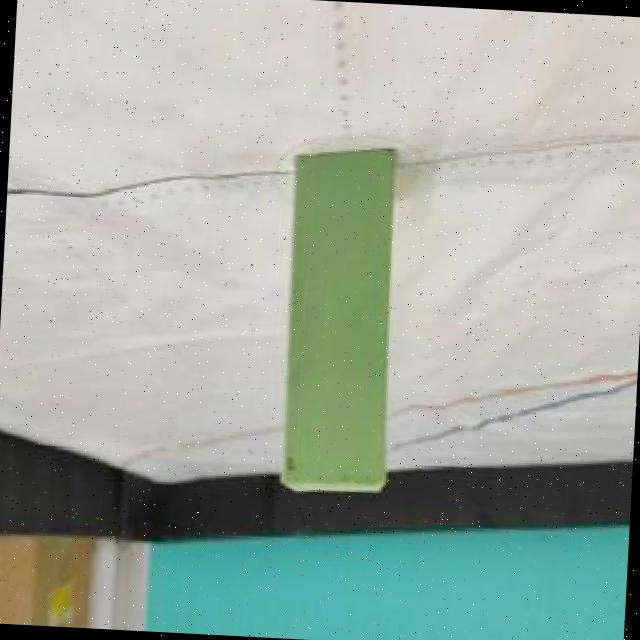greenbox: (278, 141, 402, 492)
